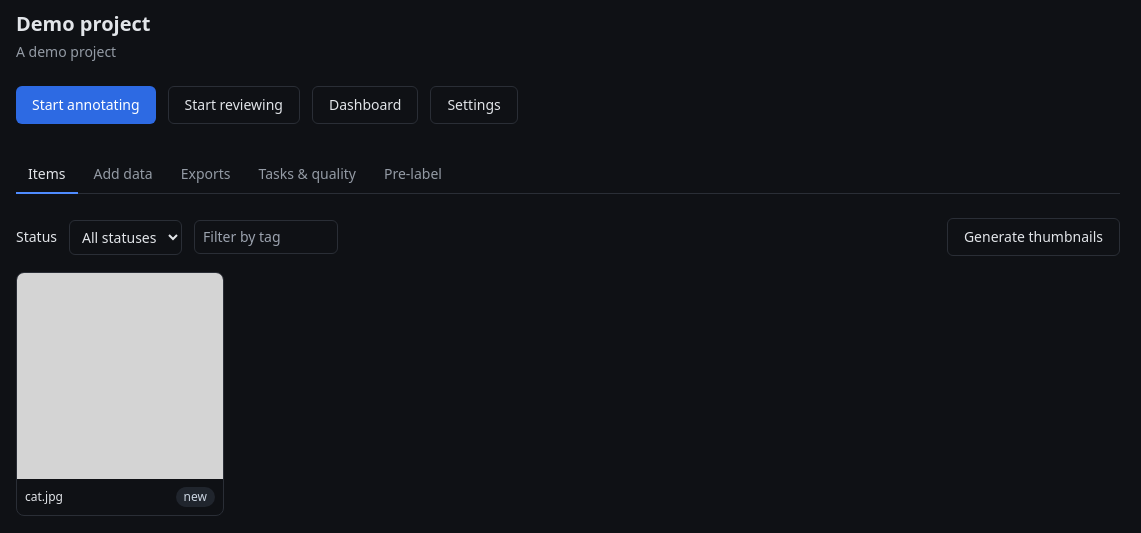
Test: ProjectDetailPage › queues a thumbnail job from the grid toolbar
Click the button "Generate thumbnails". click: click(1033, 237)
box: top-left (947, 218), bottom-right (1120, 256)
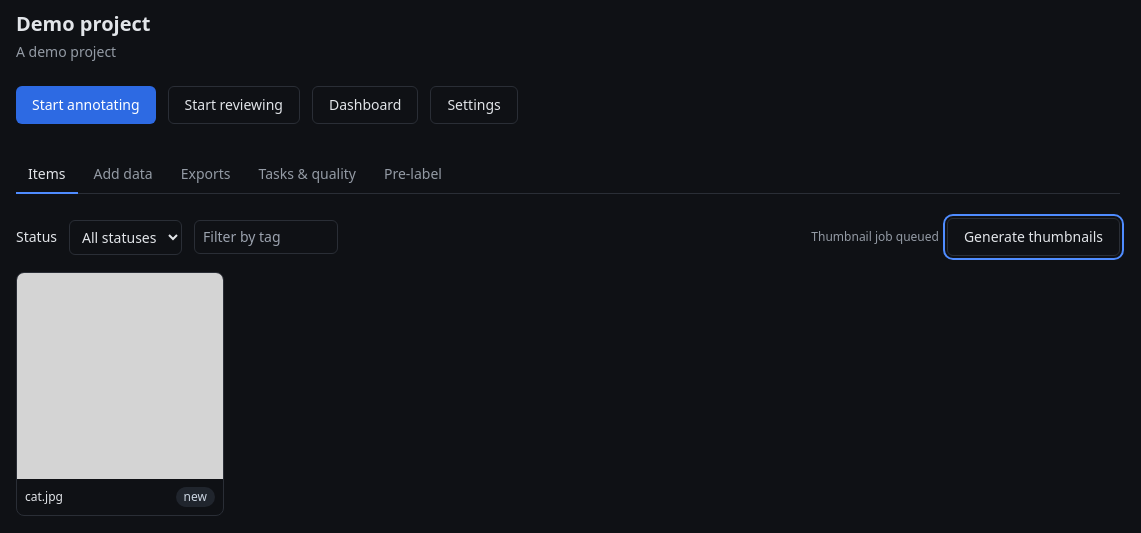
Check: the message reads "Thumbnail job queued", box top-left (811, 228), bottom-right (939, 245)
